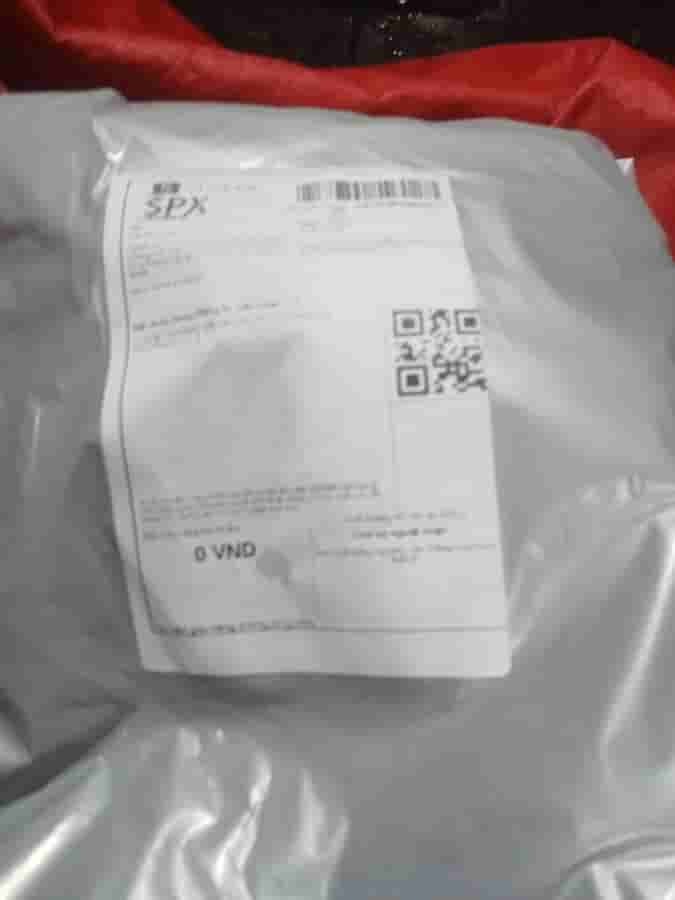pod: (83, 146, 537, 710)
